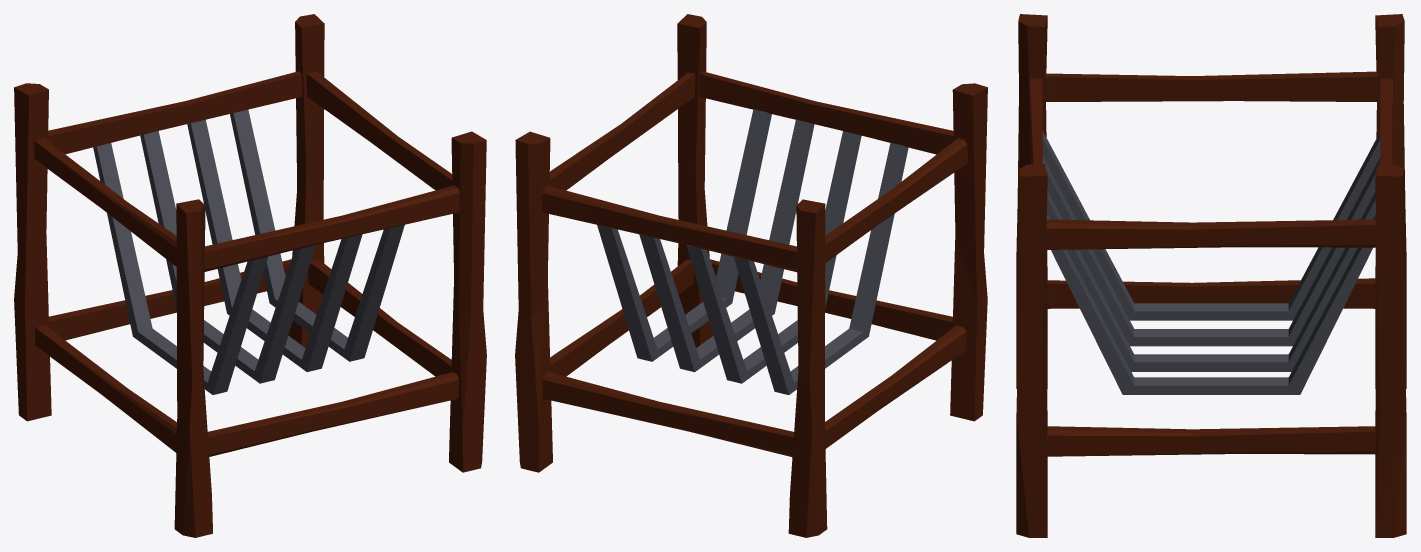
File: Feeder_2.fbx
3 views of the same model, side by side, from view 1: azimuth 30°, elevation 25°; view 2: azimuth 150°, elevation 25°; view 3: azimuth 270°, elevation 25° (orthographic). The views are drawn at different scales.
Parts seen in each view (by area): view 1: Feeder_2; view 2: Feeder_2; view 3: Feeder_2.
Part boxes in pixels (left/top/right/bottom): Feeder_2: left=14, top=14, right=486, bottom=537; Feeder_2: left=515, top=14, right=987, bottom=537; Feeder_2: left=1016, top=14, right=1406, bottom=537.
Bounding box in the file's own units: 37.44 × 38.74 × 37.89.
